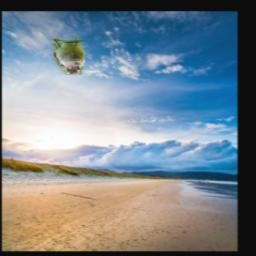Sparrow: (53, 38, 86, 75)
